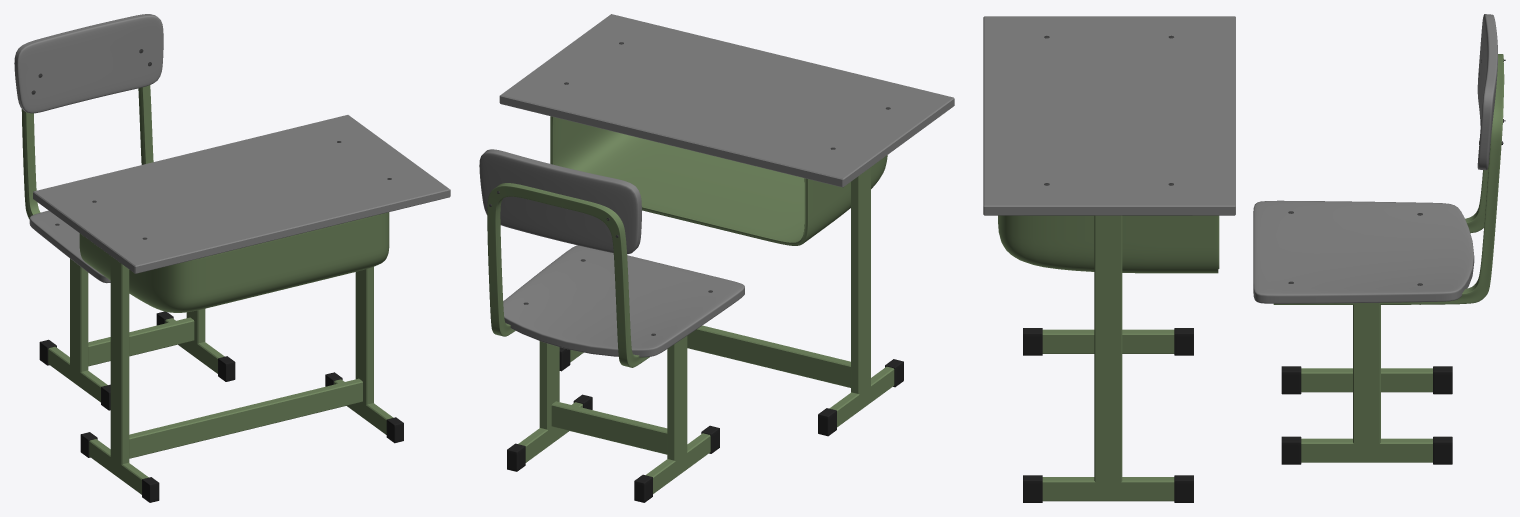
The model's file is desks.fbx.
3 renders of one model, left to right at view 1: azimuth 30°, elevation 25°; view 2: azimuth 150°, elevation 25°; view 3: azimuth 270°, elevation 25°, orthographic. The views are drawn at different scales.
Parts seen in each view (by area): view 1: Rectangle6301, Rectangle6293, Rectangle6286, Line088, Line083, Line087, Rectangle6285, Line073, Line069, Rectangle6284, Line070, Line081 (+2 smaller); view 2: Rectangle6301, Rectangle6293, Rectangle6284, Rectangle6286, Rectangle6285, Line083, Line088, Line073, Line069, Line072, Line070, Line081 (+1 smaller); view 3: Rectangle6301, Rectangle6284, Rectangle6293, Line087, Rectangle6285, Line072, Line089, Line071, Line081, Line070, Rectangle6286, Rectangle6287 (+3 smaller).
Part boxes in pixels (x1,y1,x2,y2): Rectangle6301: (33,115,450,273); Rectangle6293: (79,212,389,312); Rectangle6286: (14,14,163,113); Line088: (129,378,362,458); Line083: (110,256,129,464); Line087: (355,267,373,404); Rectangle6285: (21,85,153,219); Line073: (88,317,194,366); Line069: (70,258,88,372); Rectangle6284: (29,210,110,283); Line070: (48,346,107,402); Line081: (89,439,148,494); Rectangle6301: (499,14,954,187); Rectangle6293: (550,116,887,245); Rectangle6284: (503,245,744,357); Rectangle6286: (479,149,641,254); Rectangle6285: (487,183,649,367); Line083: (851,167,870,394); Line088: (687,325,850,387); Line073: (551,401,667,454); Line069: (667,336,687,461); Line072: (539,341,559,430); Line070: (645,433,710,493); Line081: (829,366,894,427); Rectangle6301: (983,16,1235,215); Rectangle6284: (1253,200,1474,303); Rectangle6293: (998,215,1219,273); Line087: (1094,215,1122,482); Rectangle6285: (1273,54,1504,304); Line072: (1353,303,1380,443); Line089: (1042,477,1174,501); Line071: (1301,438,1432,462); Line081: (1042,329,1174,353); Line070: (1301,368,1432,392); Rectangle6286: (1477,14,1497,170); Rectangle6287: (1281,366,1301,394).
Size of the model in its own units: 800 by 738 by 930.
